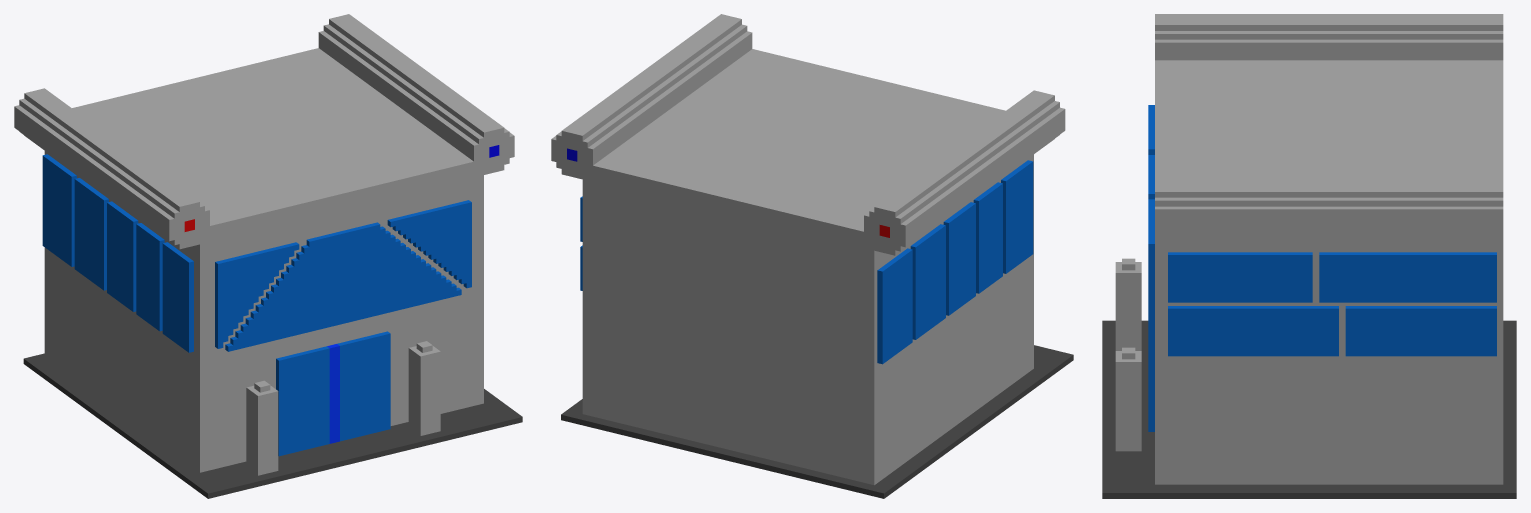
File: Museum.obj
The picture shows the model from 3 angles, left to right: view 1: azimuth 30°, elevation 25°; view 2: azimuth 150°, elevation 25°; view 3: azimuth 270°, elevation 25°; orthographic projection. The views are drawn at different scales.
Bounding box in the file's own units: 6.8 × 5.2 × 6.3.
1 material, 1 textured.
